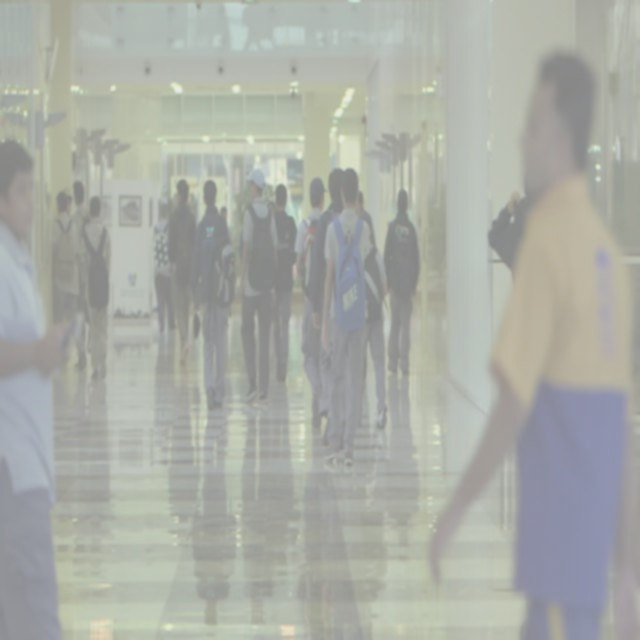pessoa: (421, 41, 637, 639), (0, 138, 84, 638), (319, 162, 374, 466), (307, 165, 348, 452), (191, 172, 236, 415), (236, 163, 280, 404), (295, 174, 330, 418), (382, 186, 421, 382), (357, 209, 390, 432), (50, 190, 86, 373), (79, 194, 112, 382), (167, 178, 197, 366), (485, 168, 536, 275), (272, 181, 299, 383), (151, 198, 177, 334), (68, 180, 90, 239), (356, 188, 376, 248), (218, 204, 232, 243), (59, 184, 72, 223), (265, 196, 277, 219)
